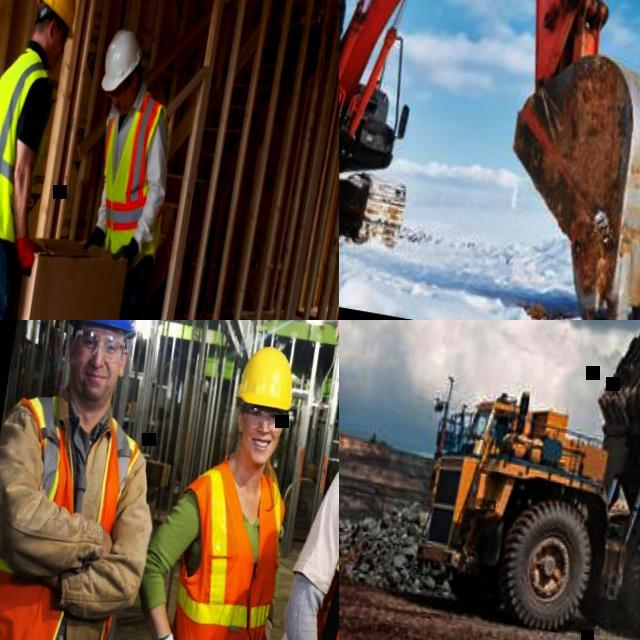helmet: (236, 344, 300, 414), (100, 25, 144, 94), (33, 0, 81, 34), (68, 320, 145, 338)
vest: (0, 389, 150, 640), (146, 451, 303, 640), (85, 84, 183, 272), (259, 435, 339, 640), (0, 40, 57, 241)
